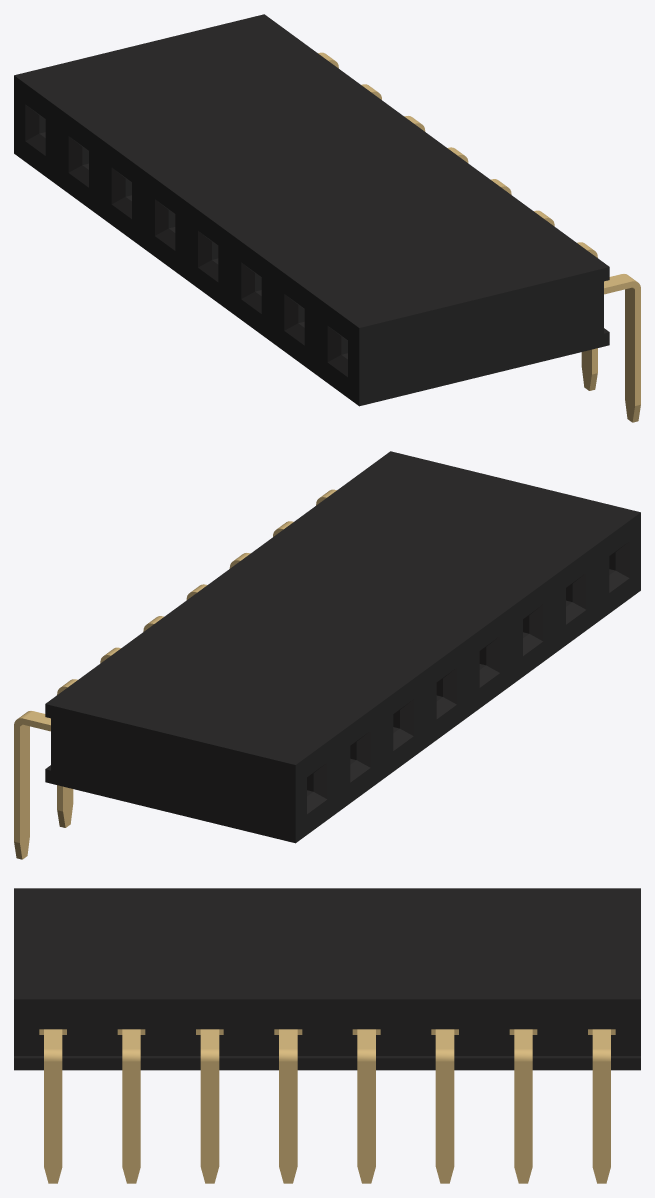
Rendered from kc-pinsocket_1x08_p2.54mm_horizontal.glb.
3 views of the same model, one above another, from view 1: azimuth 30°, elevation 25°; view 2: azimuth 150°, elevation 25°; view 3: azimuth 270°, elevation 25° (orthographic). The views are drawn at different scales.
Visible parts, largest first — view 1: 0_0_0_0, 0.75_0.5_0.25_0.9; view 2: 0_0_0_0, 0.75_0.5_0.25_0.9; view 3: 0_0_0_0, 0.75_0.5_0.25_0.9.
Boxes of the visible parts, x1,y1,x2,y2 form: 0_0_0_0: (14,14,609,406); 0.75_0.5_0.25_0.9: (318,52,640,422); 0_0_0_0: (45,451,640,843); 0.75_0.5_0.25_0.9: (14,489,336,859); 0_0_0_0: (14,888,640,1070); 0.75_0.5_0.25_0.9: (39,1029,615,1183).
Size of the model in its own units: 1.01 by 0.584 by 2.03.
